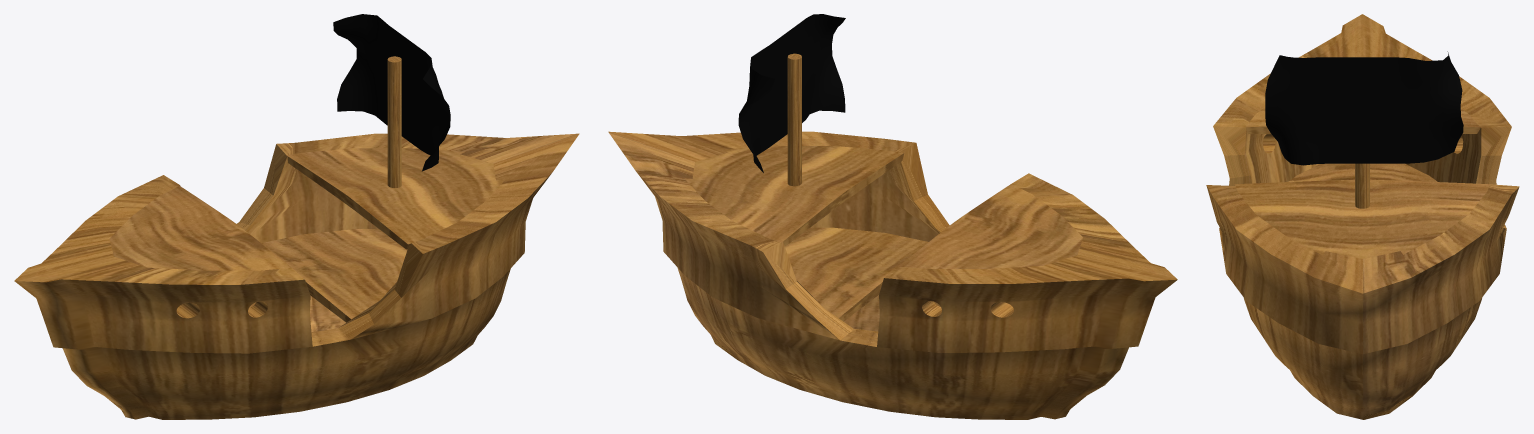
Rendered from Pirate Ship.fbx.
3 renders of one model, left to right at view 1: azimuth 30°, elevation 25°; view 2: azimuth 150°, elevation 25°; view 3: azimuth 270°, elevation 25°, orthographic. The views are drawn at different scales.
Visible parts, largest first — view 1: pPipe2, pCylinder7, pPlane1, pCylinder6, pCylinder4; view 2: pPipe2, pCylinder7, pPlane1, pCylinder6, pCylinder4; view 3: pPipe2, pPlane1, pCylinder7, pCylinder6, pCylinder4.
Boxes of the visible parts, box(x1,y1,x2,y2) form: pPipe2: box(14, 133, 579, 419); pCylinder7: box(109, 148, 504, 270); pPlane1: box(333, 14, 450, 171); pCylinder6: box(261, 229, 407, 322); pCylinder4: box(387, 56, 401, 187); pPipe2: box(608, 131, 1177, 419); pCylinder7: box(684, 146, 1083, 268); pPlane1: box(738, 14, 845, 172); pCylinder6: box(785, 227, 928, 321); pCylinder4: box(787, 53, 801, 186); pPipe2: box(1206, 14, 1519, 419); pPlane1: box(1265, 51, 1463, 165); pCylinder7: box(1234, 107, 1489, 258); pCylinder6: box(1288, 163, 1437, 181); pCylinder4: box(1355, 163, 1369, 208).
Size of the model in its own units: 8180 by 4316 by 3743.
Materials: 3 (2 with a texture image).
